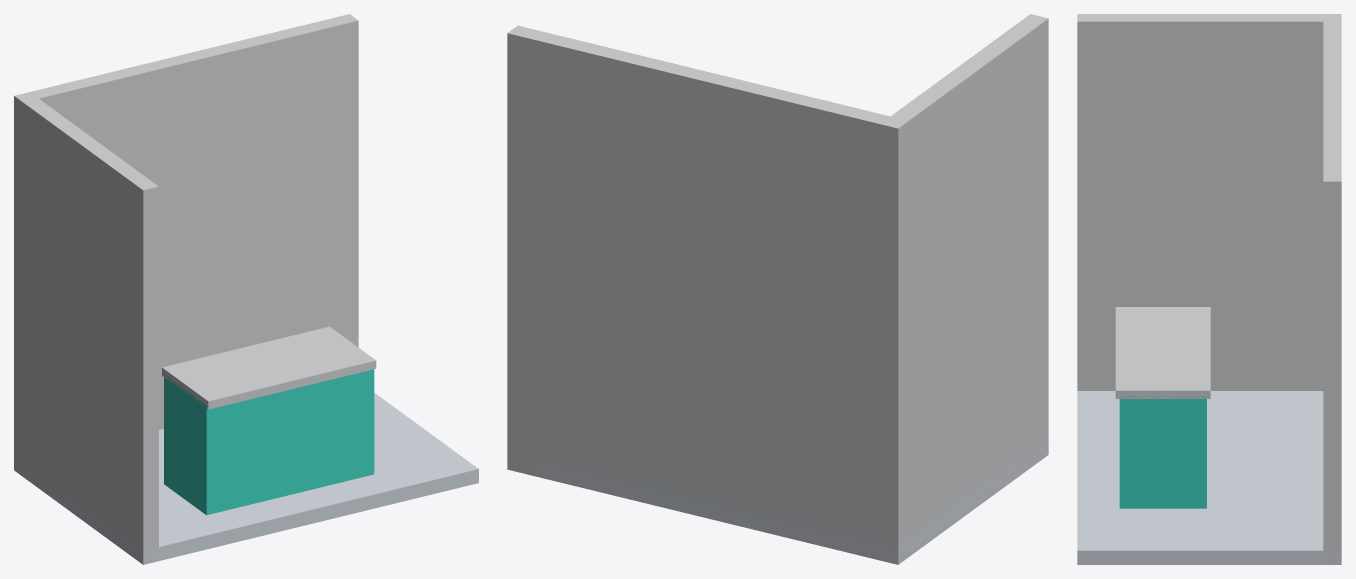
The picture shows the model from 3 angles, left to right: view 1: azimuth 30°, elevation 25°; view 2: azimuth 150°, elevation 25°; view 3: azimuth 270°, elevation 25°; orthographic projection. The views are drawn at different scales.
Parts seen in each view (by area): view 1: Exhibition Booth Concept; view 2: Exhibition Booth Concept; view 3: Exhibition Booth Concept.
Part boxes in pixels (x1,y1,x2,y2): Exhibition Booth Concept: (14,14,478,564); Exhibition Booth Concept: (507,14,1048,564); Exhibition Booth Concept: (1077,14,1341,564).
Bounding box in the file's own units: 3 × 3.2 × 2.
